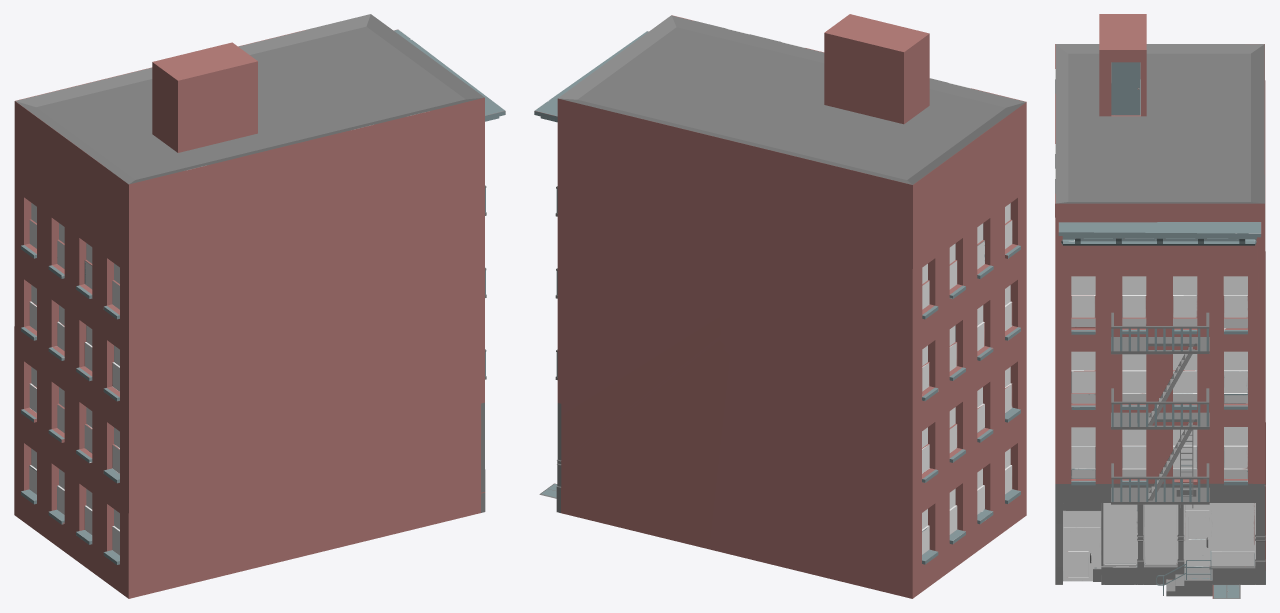
File: Building_I_1.fbx
3 views of the same model, side by side, from view 1: azimuth 30°, elevation 25°; view 2: azimuth 150°, elevation 25°; view 3: azimuth 270°, elevation 25° (orthographic). The views are drawn at different scales.
Parts seen in each view (by area): view 1: Building_I_1; view 2: Building_I_1; view 3: Building_I_1, Fire_escape_leader.
Part boxes in pixels (x1,y1,x2,y2): Building_I_1: (14,14,505,598); Building_I_1: (534,14,1026,598); Building_I_1: (1055,14,1265,598); Fire_escape_leader: (1111,312,1209,508).
Size of the model in its own units: 1390 by 1639 by 705.
Materials: 3 (2 with a texture image).
